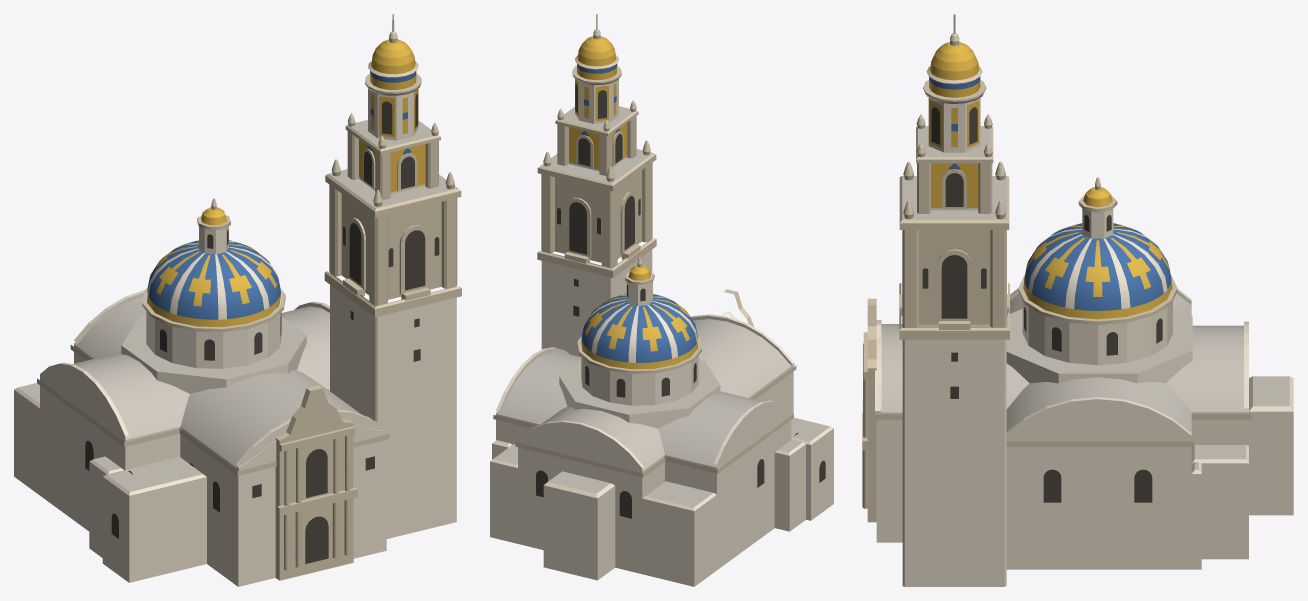
File: sd-california-tower.glb
3 renders of one model, left to right at view 1: azimuth 30°, elevation 25°; view 2: azimuth 150°, elevation 25°; view 3: azimuth 270°, elevation 25°, orthographic. The views are drawn at different scales.
Visible parts, largest first — view 1: California Building and California Tower; view 2: California Building and California Tower; view 3: California Building and California Tower.
Boxes of the visible parts, x1,y1,x2,y2 form: California Building and California Tower: (14, 14, 461, 586); California Building and California Tower: (490, 14, 833, 586); California Building and California Tower: (862, 14, 1293, 586).
Bounding box in the file's own units: 40.15 × 61.5 × 43.63.
